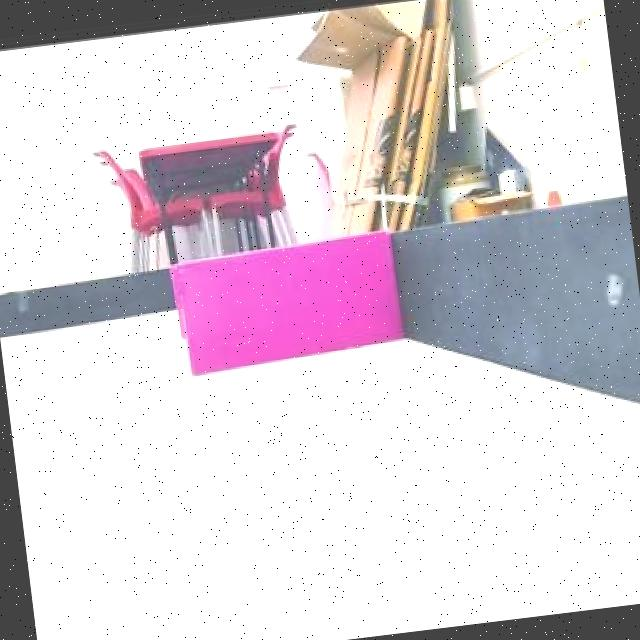xparking: (170, 229, 403, 377)
